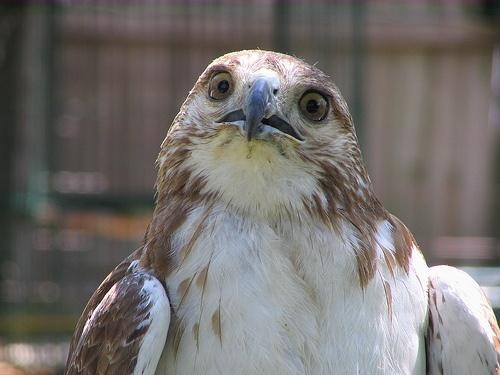bird: (65, 50, 500, 375)
